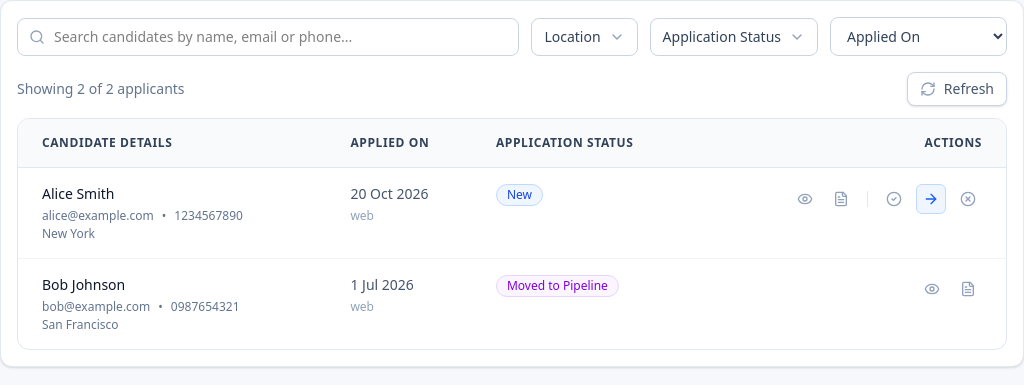
JobApplicantsTab Filtering › filters by search query (name)
In the field with placeholder "Search candidates by name, email or phone...": (268, 36) x1=17 y1=18 x2=519 y2=56, type "Alice"
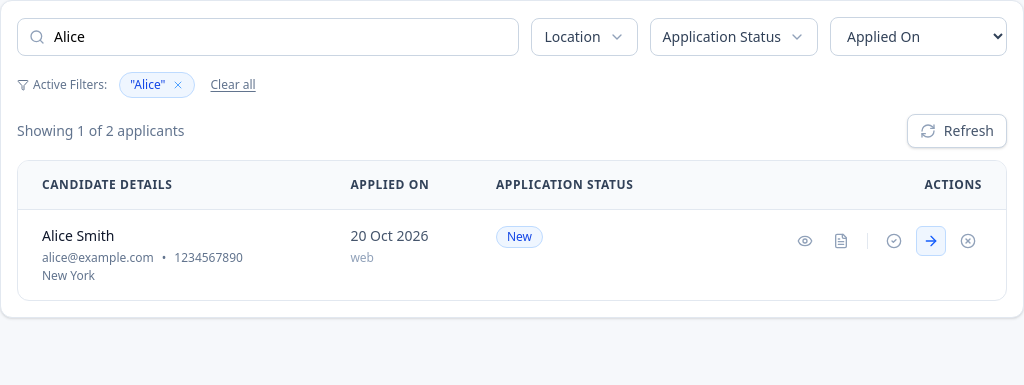
Expected: the text "Alice Smith" is shown, x1=42 y1=226 x2=114 y2=245
Expected: the text "Bob Johnson" is gone
Expected: the text "Showing 1 of 2 applicants" is shown, x1=17 y1=121 x2=185 y2=141
